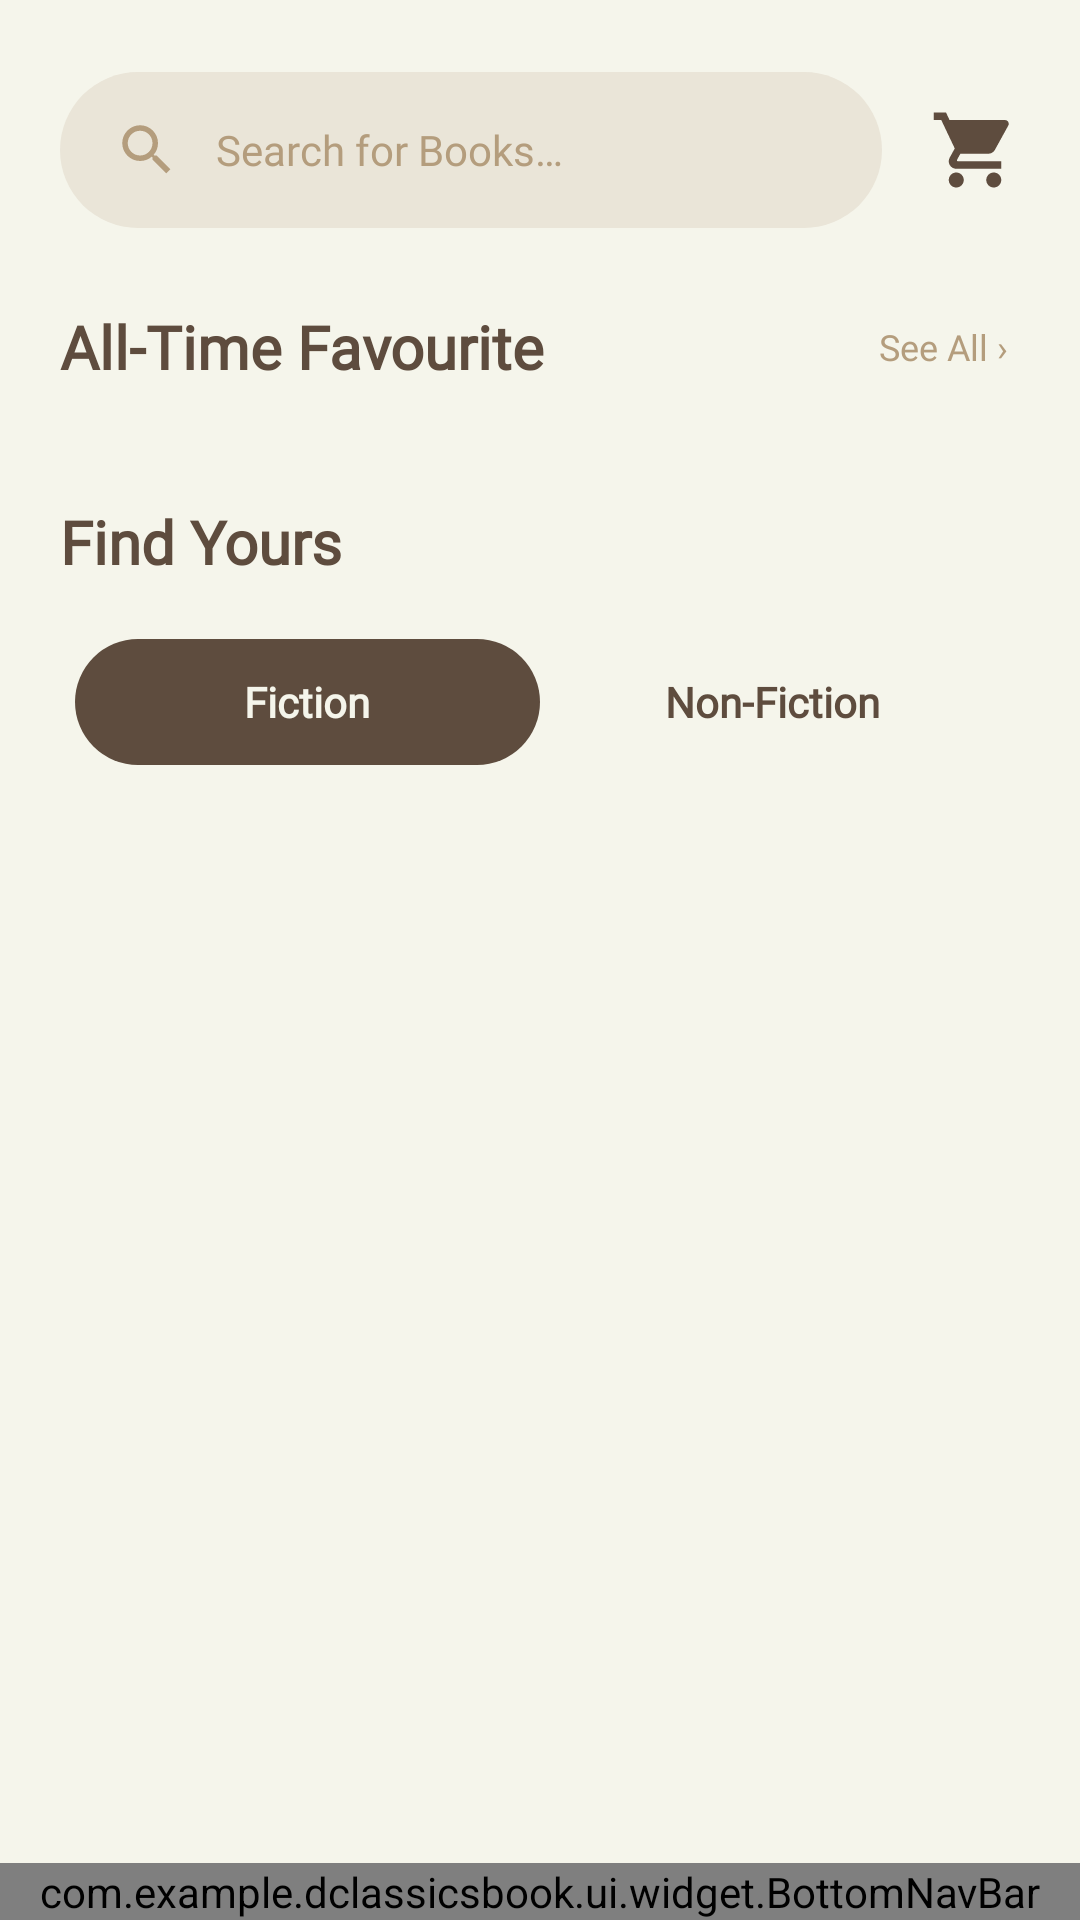

Screen size 1080 x 1920. Icon name, then its box in pixels as (x1, y1, x2, y2):
Cart: (933, 112, 1009, 188)
